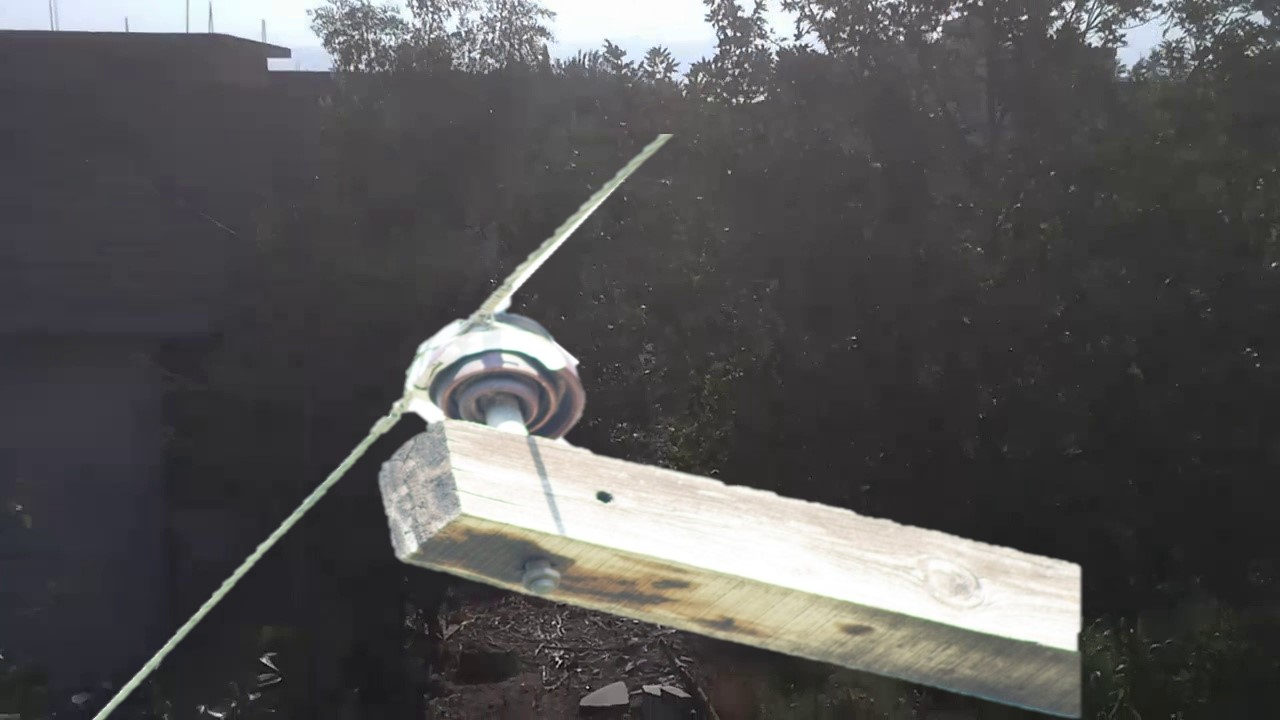defect_pin: (398, 304, 590, 445)
